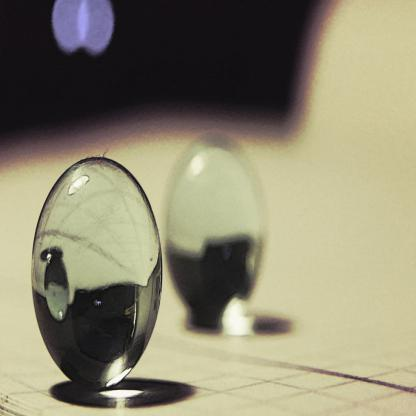Ball: (31, 159, 162, 391), (165, 139, 268, 326)
